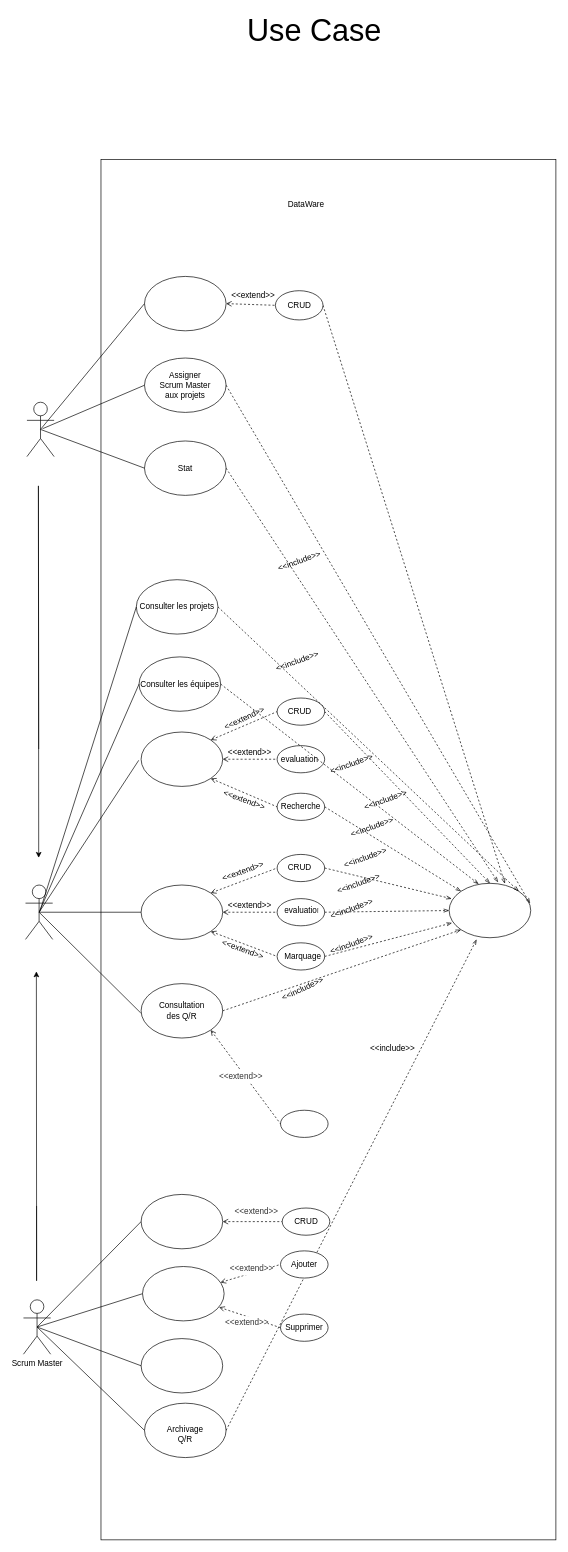
This 568x1552 diagram has some shape labels left out. Each missing label, with the centre of its shape:
"Affecter les équipes à des projets" goes at point 181,1365.
"Authentification" goes at point 489,910.
"Filtrage" goes at point 304,1123.
"Gestion des membres d'équipes" goes at point 183,1293.
"Gestion des projets" goes at point 185,303.
"Gestion des questions" goes at point 181,758.
"Gestion des réponses" goes at point 181,911.
"Gestion des équipes" goes at point 181,1221.
"Product Owner" goes at point 40,429.
"User" goes at point 39,911.
